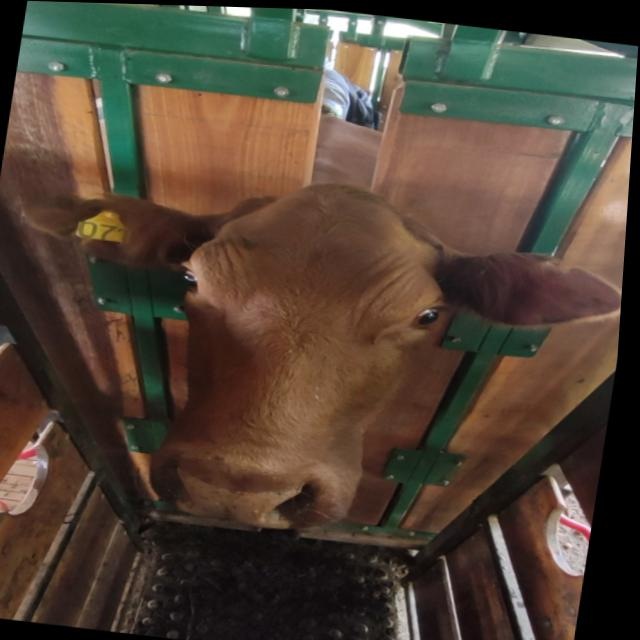cowFace: (152, 165, 466, 540)
